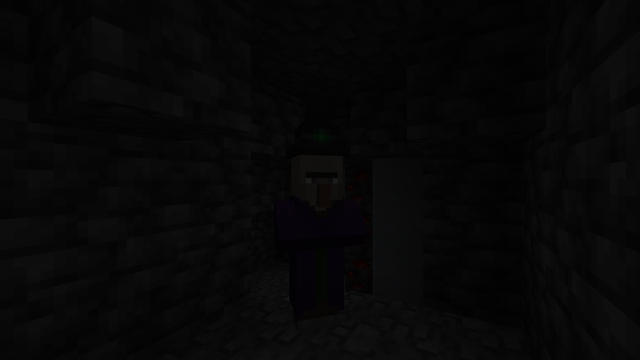sorcieres: (277, 146, 349, 346)
